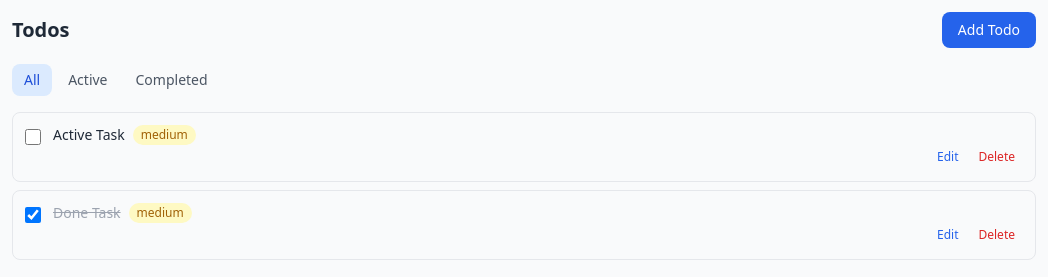
Scenario: TodoList › filters active todos
Expected: the text "Active Task" is shown, top-left (53, 125), bottom-right (125, 145)
Click the button "active" at (88, 80), box top-left (56, 64), bottom-right (120, 96)
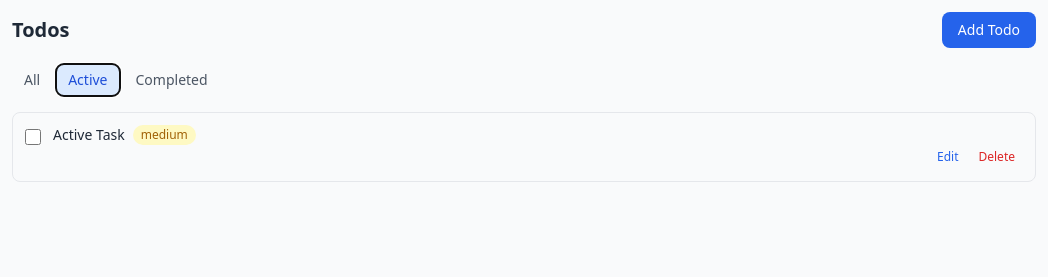
Expected: the text "Active Task" is shown, top-left (53, 125), bottom-right (125, 145)
Expected: the text "Done Task" is gone
